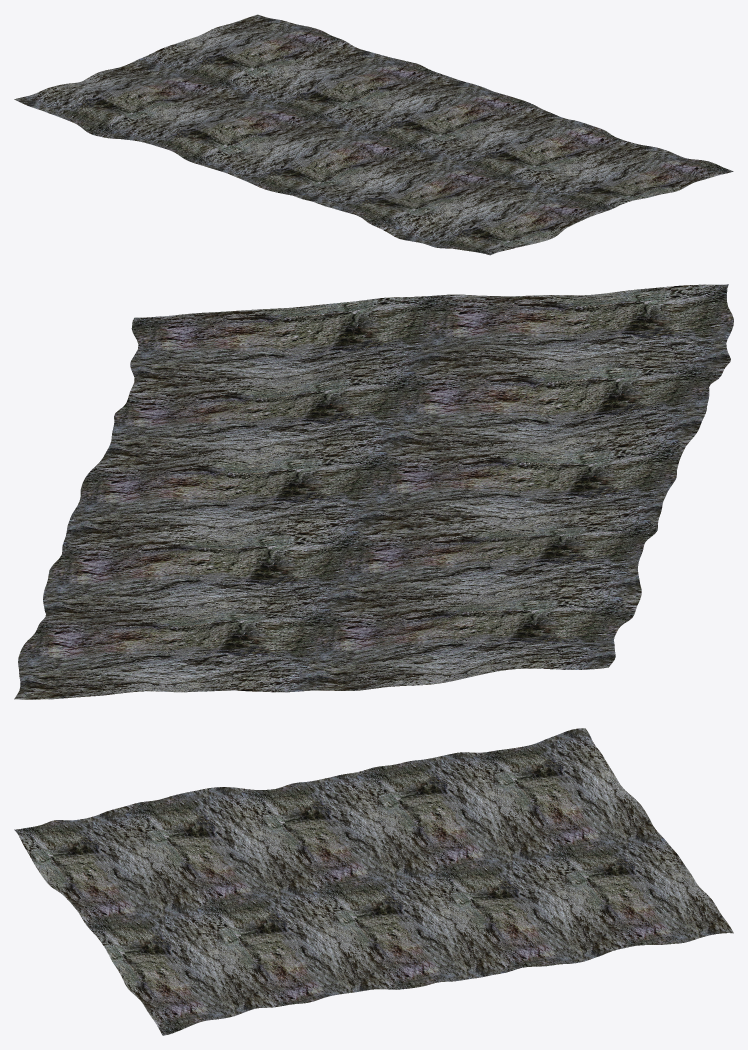
Rendered from dimian_3.FBX.
3 renders of one model, top to bottom at view 1: azimuth 30°, elevation 25°; view 2: azimuth 150°, elevation 25°; view 3: azimuth 270°, elevation 25°, orthographic. The views are drawn at different scales.
Parts seen in each view (by area): view 1: Plane092; view 2: Plane092; view 3: Plane092.
Boxes of the visible parts, x1,y1,x2,y2 form: Plane092: (14, 14, 733, 255); Plane092: (14, 284, 733, 699); Plane092: (14, 728, 733, 1035).
Size of the model in its own units: 23614 by 2106 by 27771.
1 material, 1 textured.
